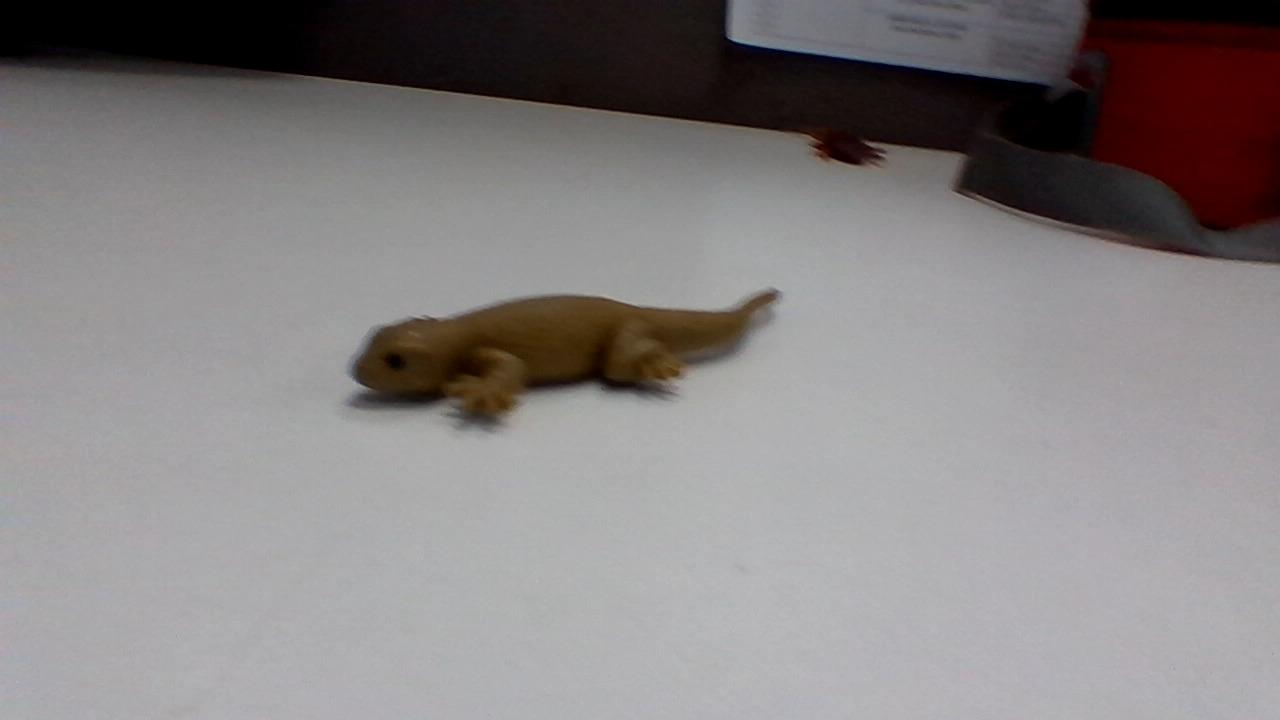lizard: (352, 291, 785, 418)
